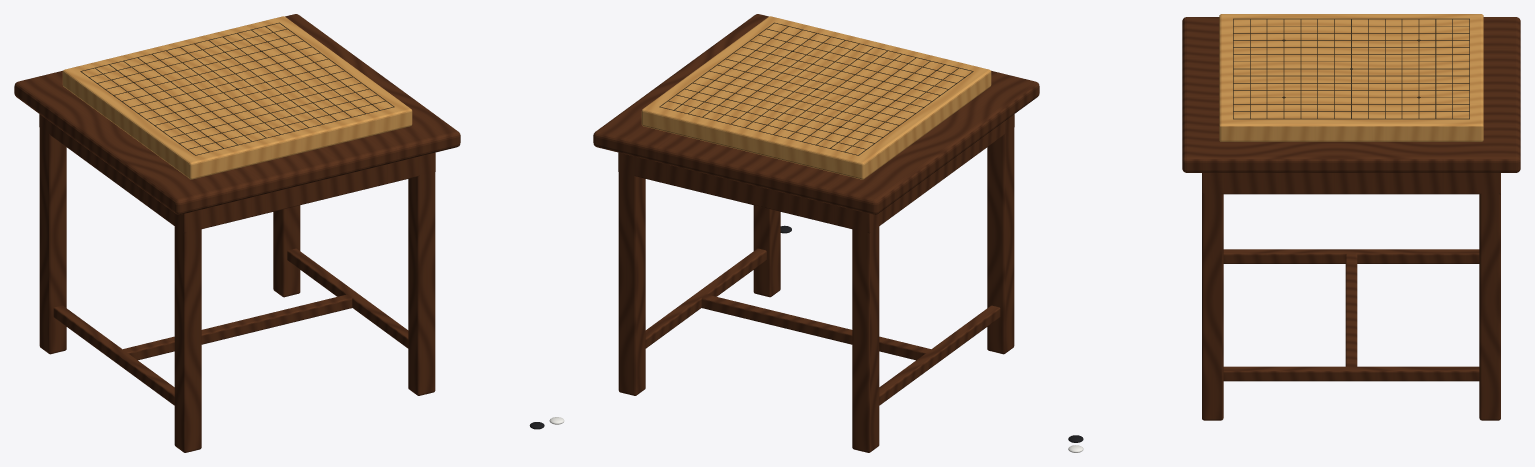
File: kani_gomoku.glb
3 views of the same model, side by side, from view 1: azimuth 30°, elevation 25°; view 2: azimuth 150°, elevation 25°; view 3: azimuth 270°, elevation 25° (orthographic). The views are drawn at different scales.
Parts seen in each view (by area): view 1: kani_gomoku_table, kani_goban; view 2: kani_gomoku_table, kani_goban; view 3: kani_gomoku_table, kani_goban.
Part boxes in pixels (bbox=[...]): kani_gomoku_table: bbox=[14, 14, 460, 452]; kani_goban: bbox=[62, 16, 412, 179]; kani_gomoku_table: bbox=[593, 14, 1039, 452]; kani_goban: bbox=[641, 16, 991, 179]; kani_gomoku_table: bbox=[1182, 17, 1520, 420]; kani_goban: bbox=[1219, 14, 1483, 141].
Size of the model in its own units: 1.01 by 0.8109 by 1.15.
Materials: 5 (2 with a texture image).
